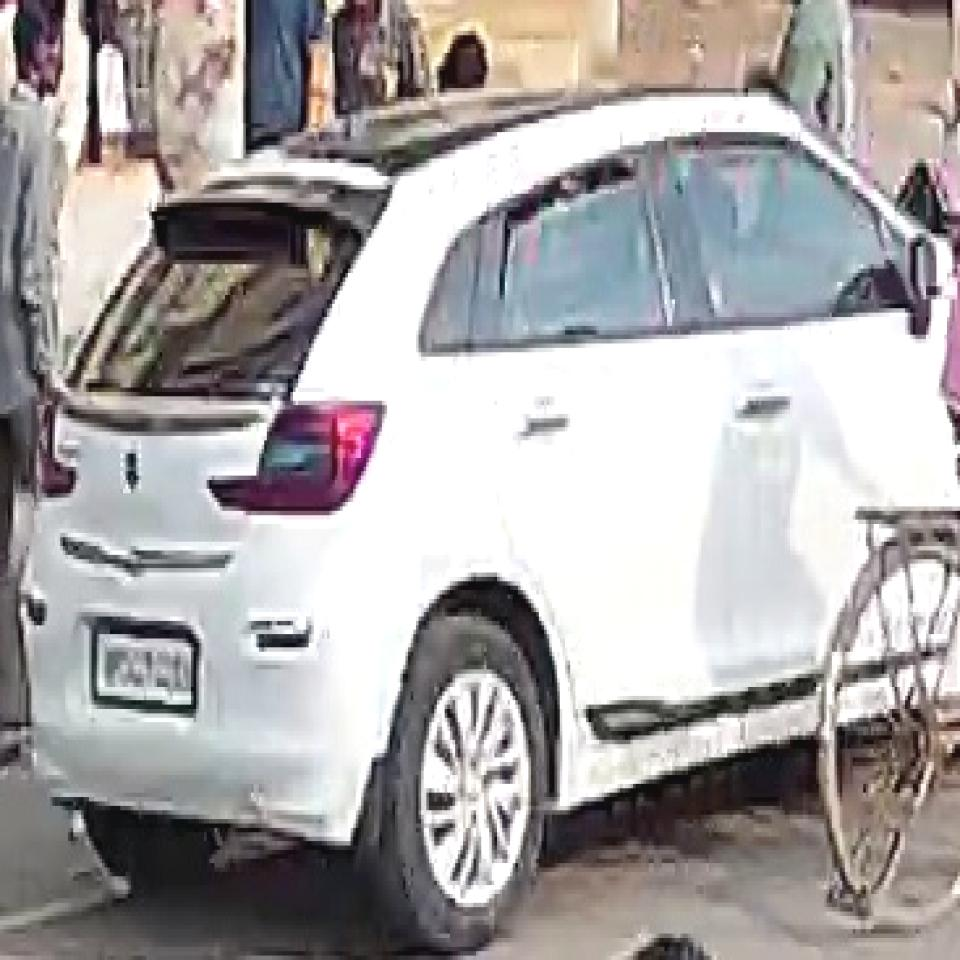tail_light: (209, 396, 387, 518)
